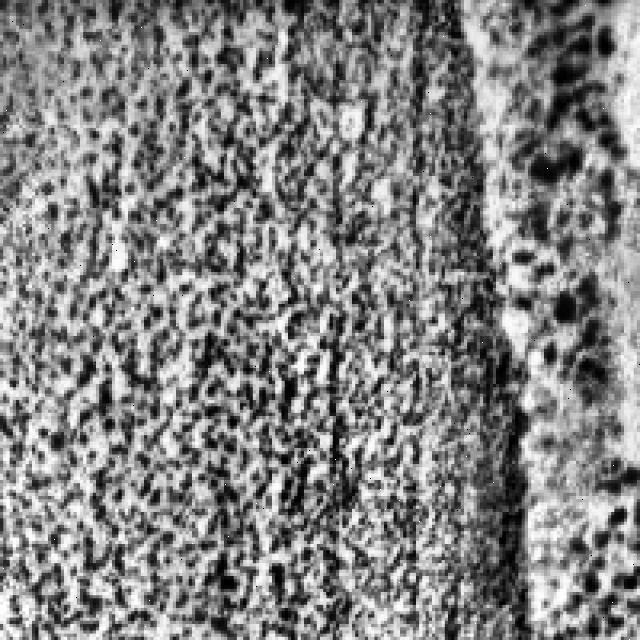Rolled_in_Scale: (4, 0, 522, 630), (490, 0, 640, 630)
